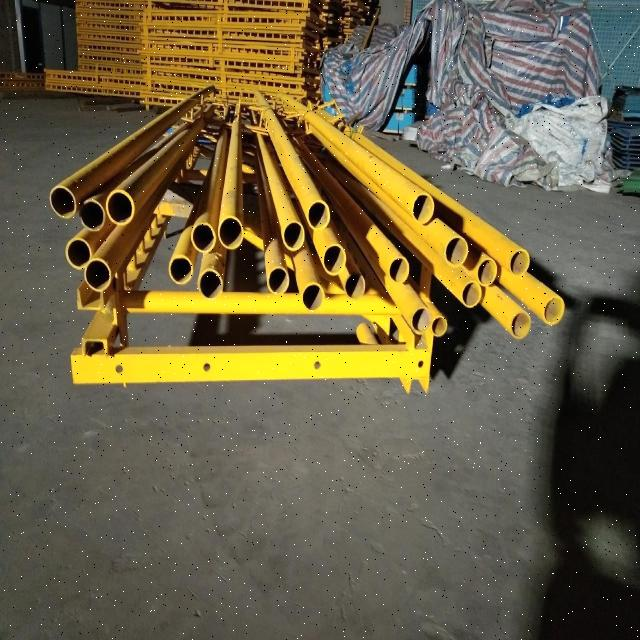pipe: (105, 188, 134, 224), (48, 184, 76, 218), (78, 198, 104, 232), (84, 257, 110, 291), (217, 215, 243, 249), (65, 237, 91, 269), (190, 221, 216, 253), (197, 268, 223, 300), (322, 243, 346, 275), (444, 234, 468, 266), (168, 254, 192, 284), (306, 200, 330, 230), (412, 192, 434, 224), (282, 220, 304, 250), (542, 294, 564, 324), (266, 266, 289, 294), (301, 282, 324, 310), (387, 256, 409, 284), (475, 258, 497, 286), (509, 248, 529, 276), (510, 311, 530, 339), (411, 306, 431, 334), (344, 272, 364, 298), (461, 281, 481, 307), (430, 314, 447, 336)
